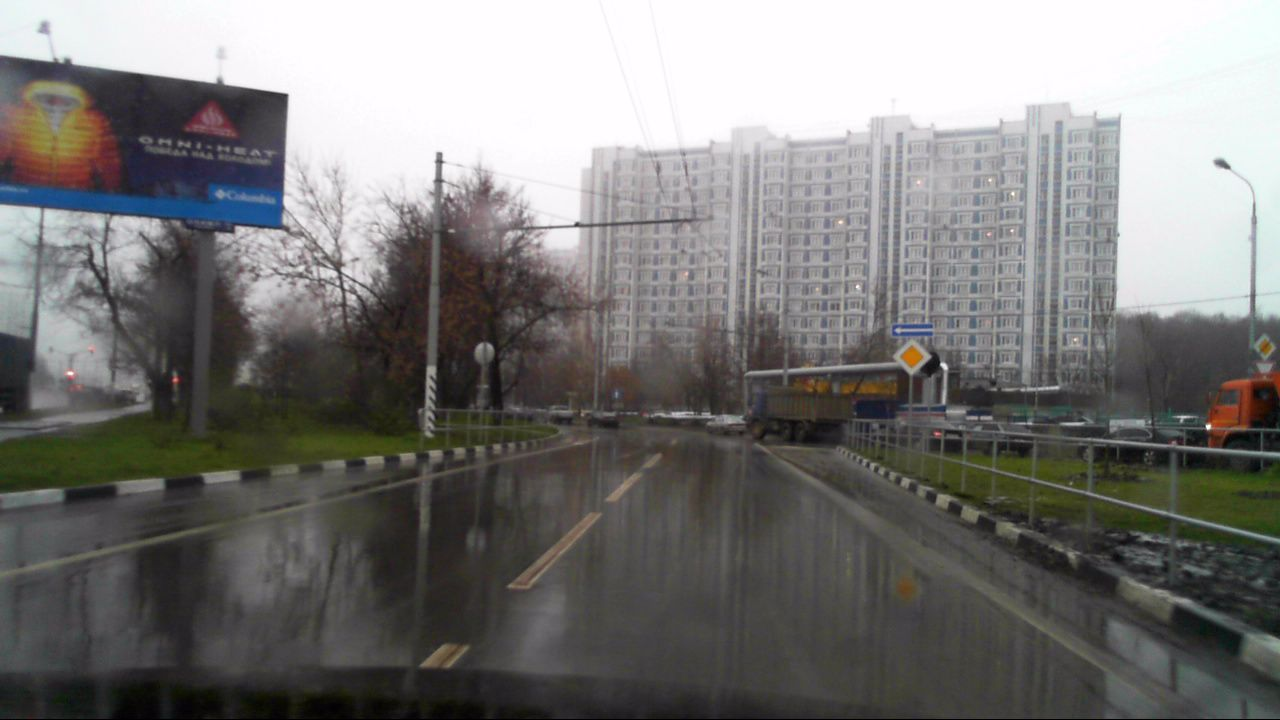main road: (1254, 333, 1275, 361)
